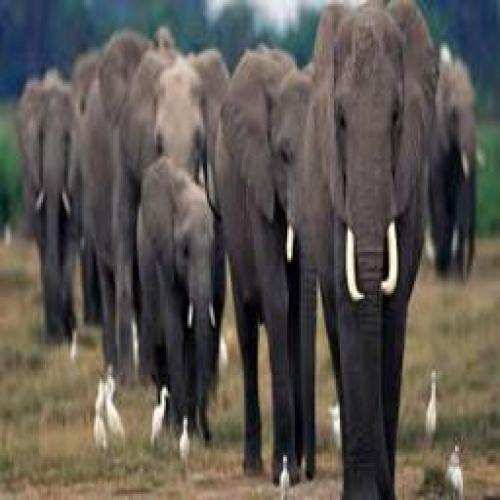african_elephant-endangered: (310, 3, 430, 498), (216, 52, 312, 475), (100, 36, 215, 373), (136, 163, 217, 435), (20, 67, 90, 333), (426, 44, 478, 282)
